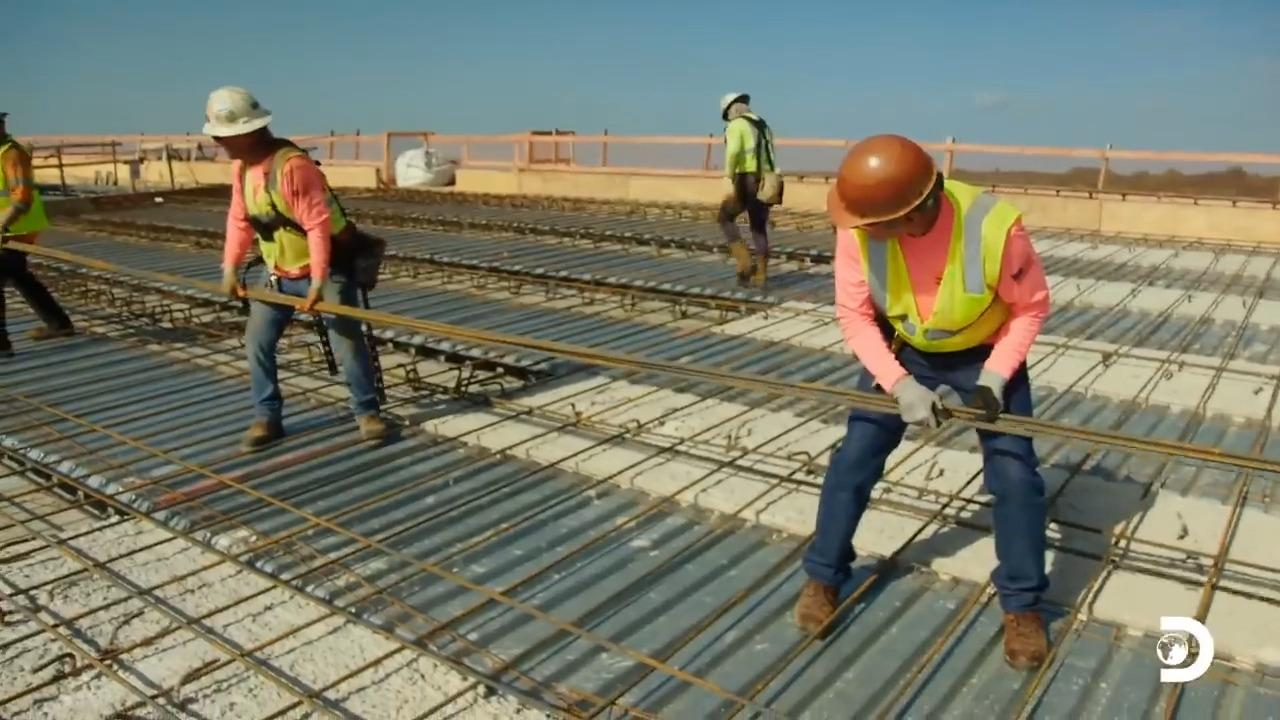Gloves: (896, 376, 945, 428), (967, 375, 1009, 421), (298, 283, 331, 316), (217, 272, 248, 304), (28, 321, 70, 339)
Helmet: (826, 133, 937, 229), (201, 85, 272, 138), (720, 91, 750, 120)
Person: (793, 133, 1052, 671), (201, 85, 389, 451), (0, 110, 75, 357), (717, 91, 783, 289)
Safety Boot: (789, 577, 839, 636), (999, 610, 1048, 669), (241, 423, 291, 447), (361, 414, 396, 437), (730, 251, 752, 284), (750, 267, 771, 289)
Safety Vest: (866, 238, 1004, 343), (246, 172, 342, 268), (0, 161, 44, 236), (729, 127, 772, 178)
